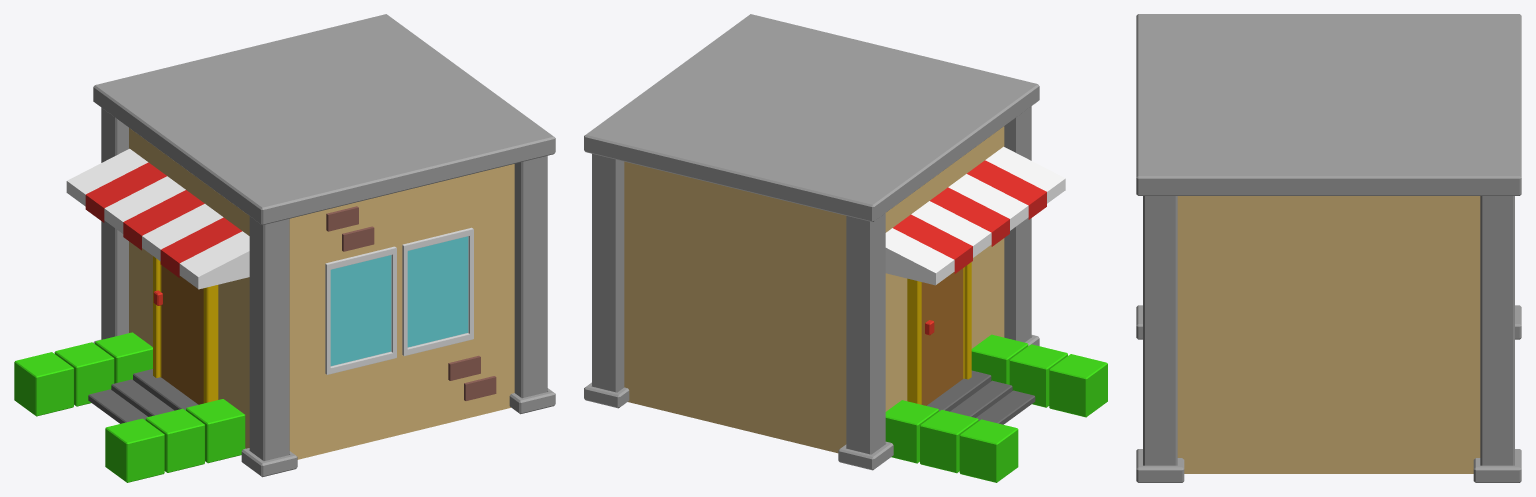
File: TowerBlockBase.fbx
The picture shows the model from 3 angles, left to right: view 1: azimuth 30°, elevation 25°; view 2: azimuth 150°, elevation 25°; view 3: azimuth 270°, elevation 25°; orthographic projection. The views are drawn at different scales.
Parts seen in each view (by area): view 1: Cube; view 2: Cube; view 3: Cube.
Part boxes in pixels (x1,y1,x2,y2): Cube: [14, 14, 555, 482]; Cube: [584, 14, 1107, 482]; Cube: [1136, 14, 1521, 482].
Size of the model in its own units: 308 by 203 by 227.
